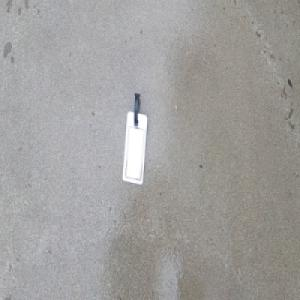LuggageTag: (121, 92, 147, 186)
